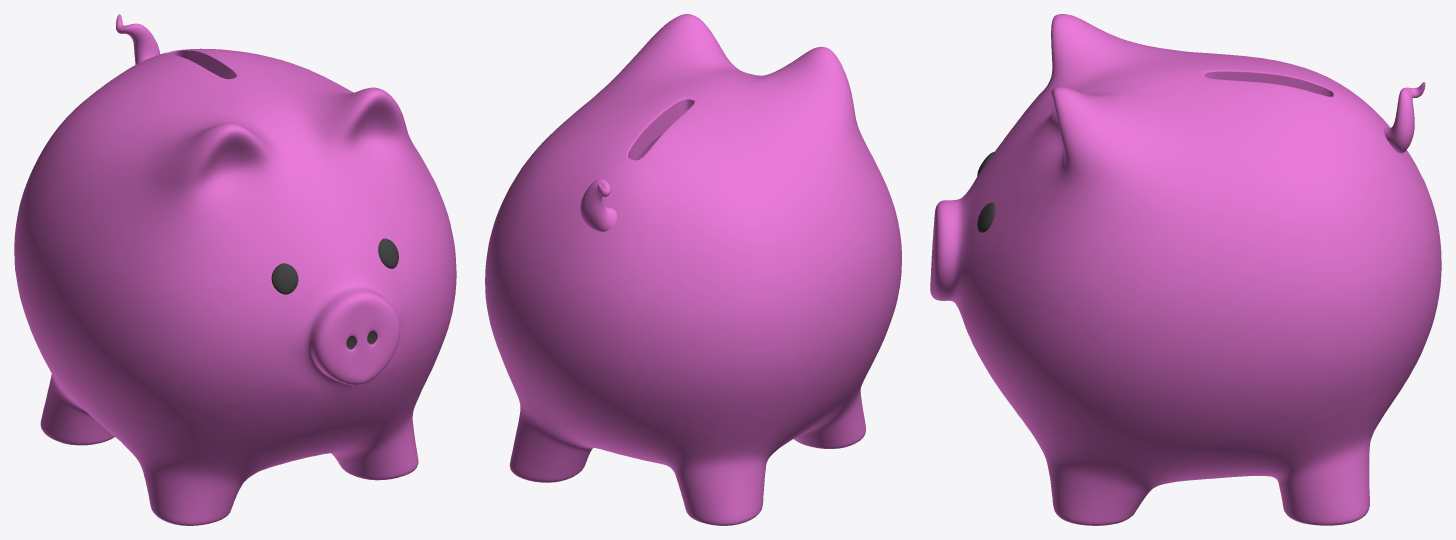
Rendered from piggy_bank-transformed.glb.
3 views of the same model, side by side, from view 1: azimuth 30°, elevation 25°; view 2: azimuth 150°, elevation 25°; view 3: azimuth 270°, elevation 25° (orthographic). The views are drawn at different scales.
Visible parts, largest first — view 1: Cube_0; view 2: Cube_0; view 3: Cube_0.
Boxes of the visible parts, x1,y1,x2,y2 form: Cube_0: [14, 14, 456, 525]; Cube_0: [485, 14, 901, 525]; Cube_0: [930, 14, 1441, 525].
Bounding box in the file's own units: 2.73 × 2.84 × 3.2.
